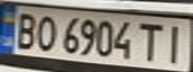0: (93, 17, 118, 59)
4: (112, 17, 139, 61)
6: (57, 13, 81, 55)
9: (75, 16, 100, 56)
B: (9, 9, 42, 51)
I: (160, 20, 190, 64)
O: (30, 12, 60, 52)
T: (133, 19, 166, 62)
